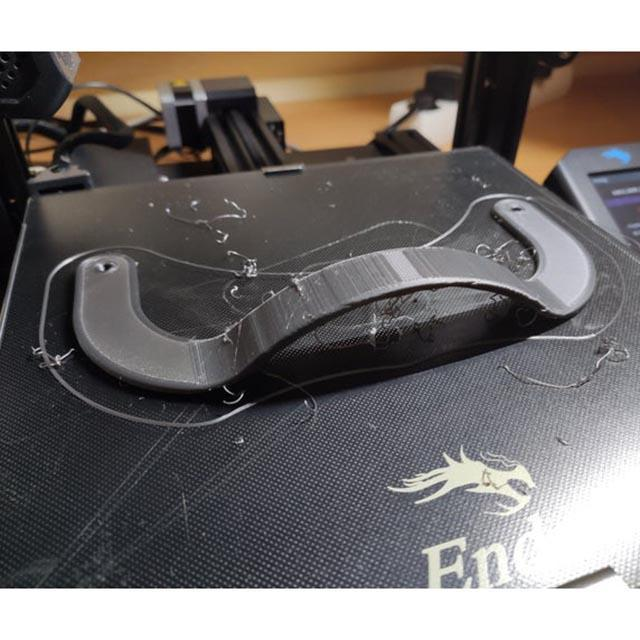spaghetti: (499, 337, 632, 392), (474, 239, 539, 274), (225, 249, 261, 281)
